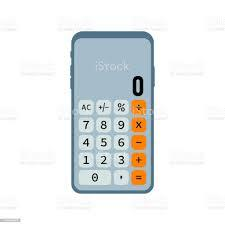Calculator: (67, 74, 162, 191)
